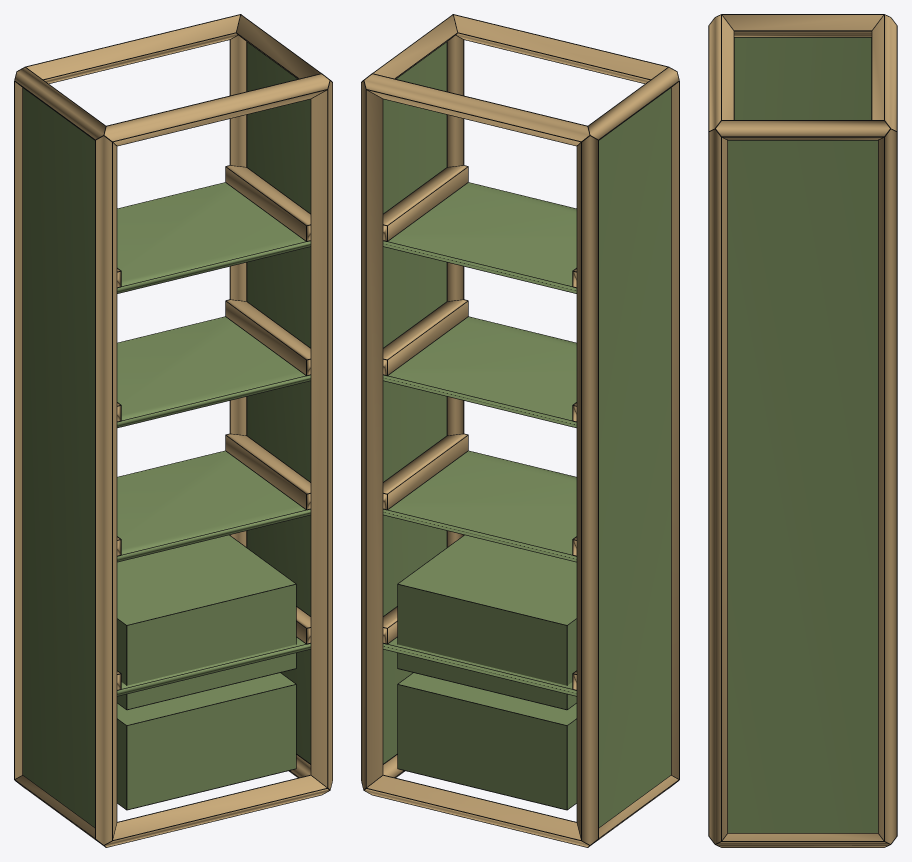
Rendered from 007-dressing.glb.
3 renders of one model, left to right at view 1: azimuth 30°, elevation 25°; view 2: azimuth 150°, elevation 25°; view 3: azimuth 270°, elevation 25°, orthographic.
Visible parts, largest first — view 1: panneau-joue1, mod-drawer-1, panneau-joue2, mod-drawer-0, arete-Z1, arete-Z0, tablette-plate-mod-2, tablette-plate-mod-1, tablette-plate-mod-3, arete-Z2, arete-X2, arete-X0 (+21 smaller); view 2: panneau-joue1, mod-drawer-1, panneau-joue2, mod-drawer-0, arete-Z3, arete-Z2, tablette-plate-mod-2, tablette-plate-mod-1, tablette-plate-mod-3, arete-Z0, arete-X3, arete-X1 (+21 smaller); view 3: panneau-joue2, arete-Z1, arete-Z3, panneau-joue1, arete-Y2, arete-Y3, arete-X2, arete-X3, arete-Y1, arete-wire-Z1, arete-wire-Z3, panneau-wire-joue2 (+4 smaller).
Boxes of the visible parts, x1,y1,x2,y2 form: panneau-joue1: (23,88,94,827); mod-drawer-1: (117,535,295,709); panneau-joue2: (247,42,310,763); mod-drawer-0: (117,673,295,809); arete-Z1: (311,81,332,789); arete-Z0: (96,136,116,844); tablette-plate-mod-2: (117,317,310,427); tablette-plate-mod-1: (117,451,310,561); tablette-plate-mod-3: (117,182,310,293); arete-Z2: (15,82,22,778); arete-X2: (104,74,329,145); arete-X0: (105,775,328,847); panneau-joue1: (599,88,670,827); mod-drawer-1: (398,535,576,709); panneau-joue2: (383,42,446,763); mod-drawer-0: (398,673,576,809); arete-Z3: (361,81,382,789); arete-Z2: (577,136,597,844); tablette-plate-mod-2: (383,317,576,427); tablette-plate-mod-1: (383,451,576,561); tablette-plate-mod-3: (383,182,576,293); arete-Z0: (671,82,678,778); arete-X3: (364,74,589,145); arete-X1: (365,775,588,847); panneau-joue2: (728,140,877,832); arete-Z1: (709,129,727,843); arete-Z3: (878,129,896,843); panneau-joue1: (734,37,871,119); arete-Y2: (723,15,882,36); arete-Y3: (716,121,889,139); arete-X2: (709,15,733,130); arete-X3: (872,15,896,130); arete-Y1: (716,833,889,847); arete-wire-Z1: (708,128,727,841); arete-wire-Z3: (884,132,897,841); panneau-wire-joue2: (727,140,878,833).
Bounding box in the file's own units: 0.6309 × 1.83 × 0.4309.
